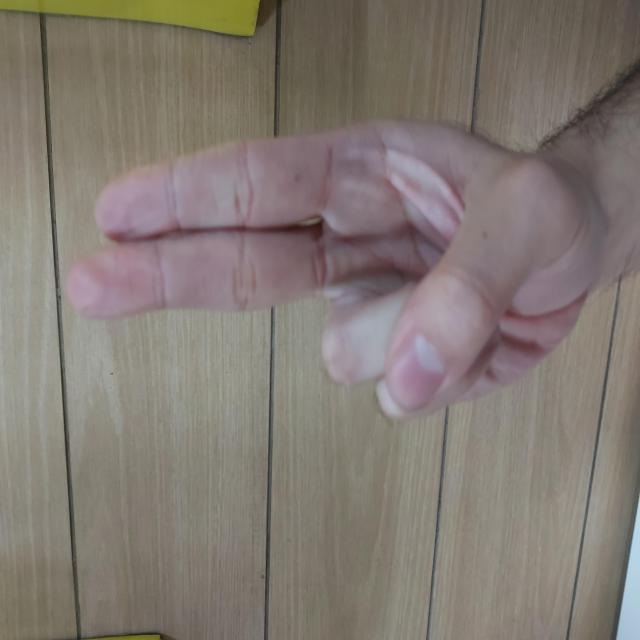U: (216, 65, 522, 598)
